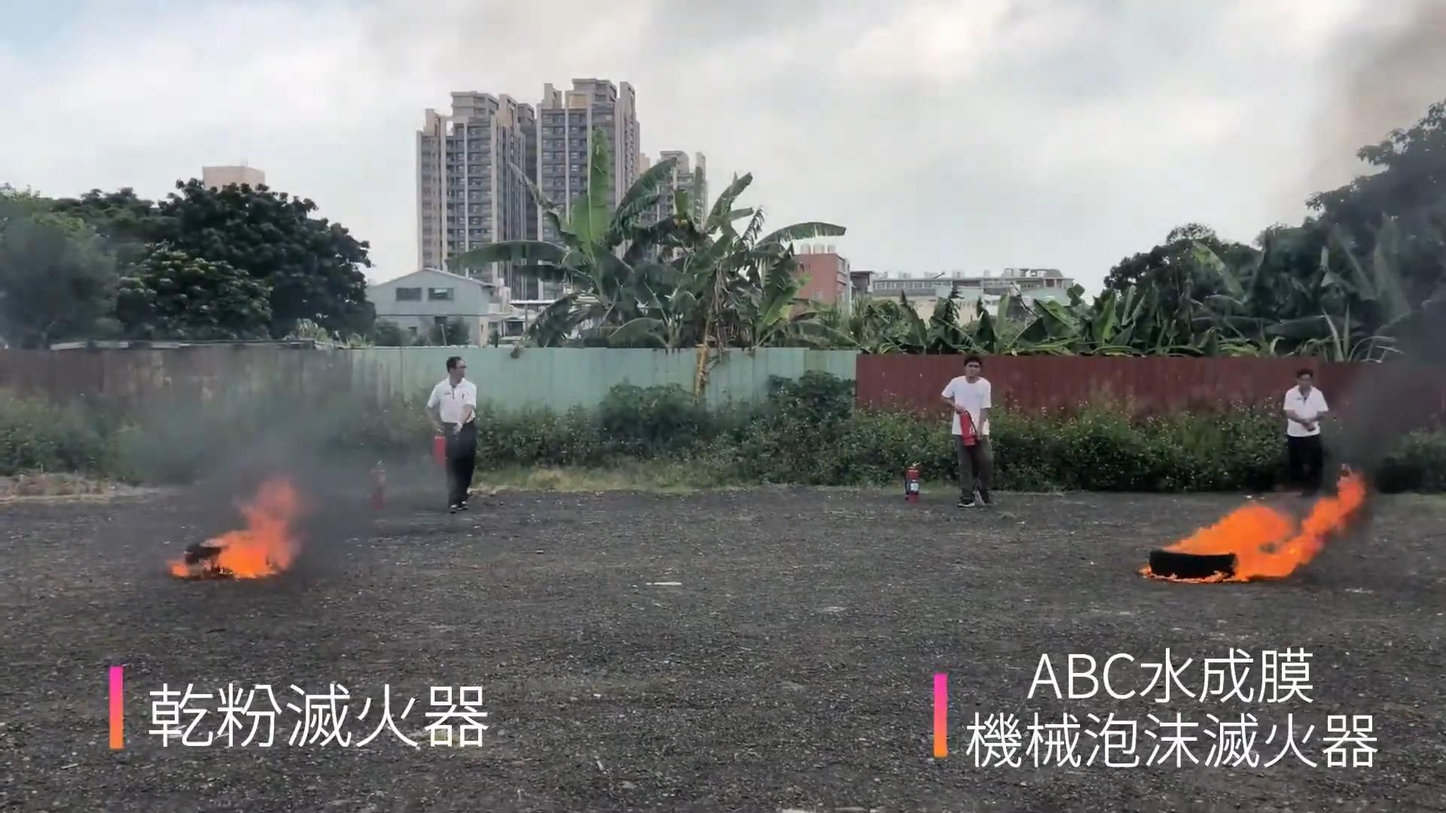FireExtinguisher: (951, 397, 981, 452), (362, 456, 391, 512), (897, 456, 926, 506), (426, 431, 453, 479)
